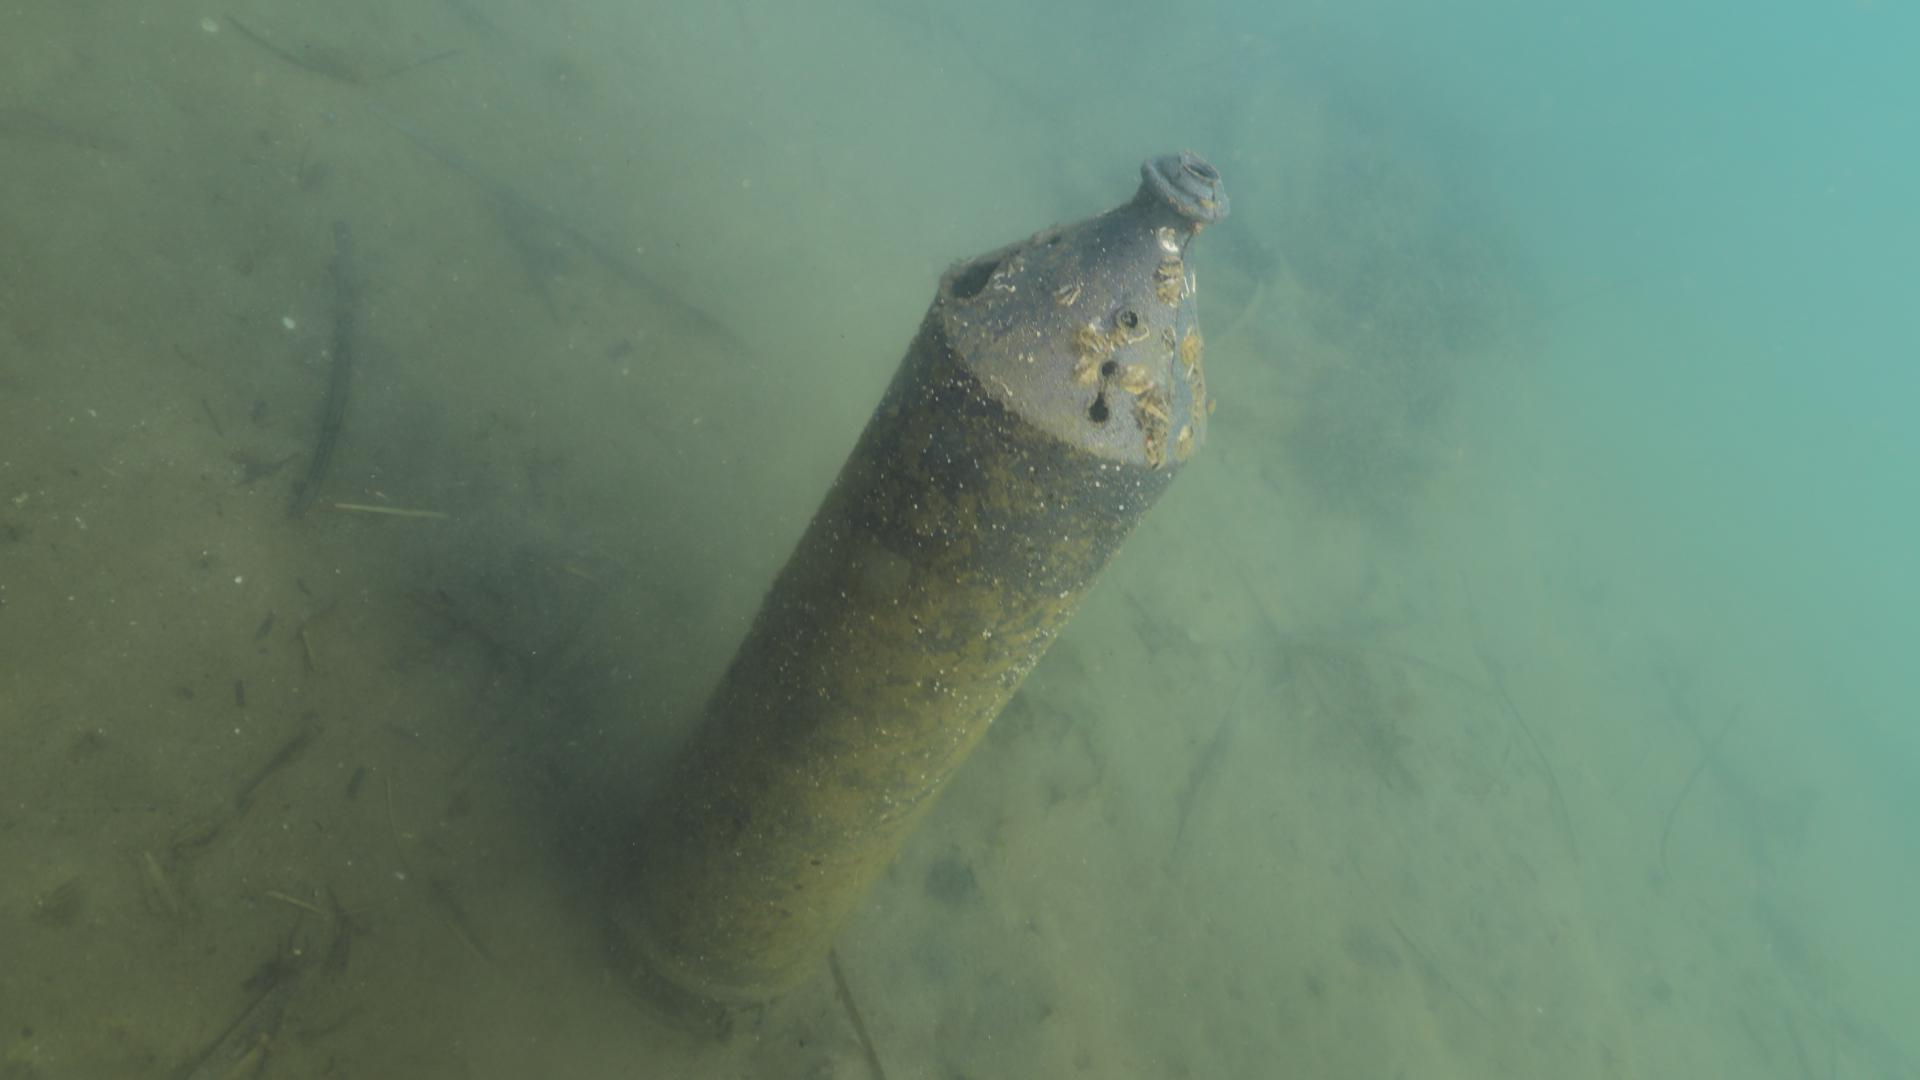eel fish trap: (595, 146, 1229, 1005)
